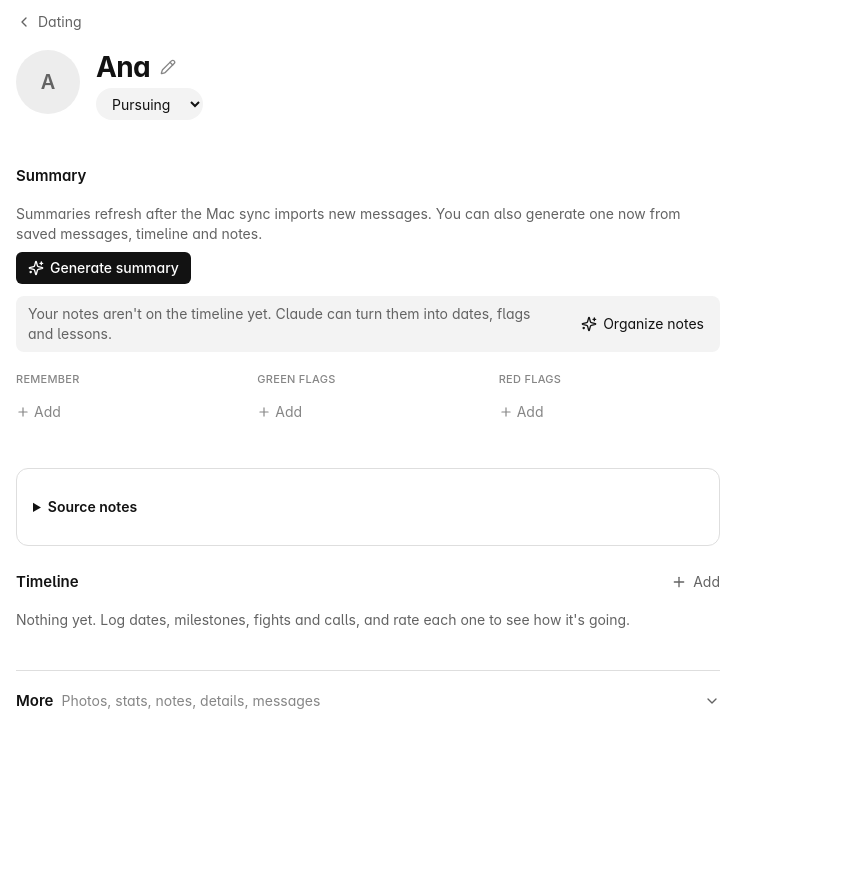
Test: dating request recovery › rolls the visible stage back after a save fails
Select "dating" in the dropdown named "Stage" at point(150, 104), box [96,88,203,120]
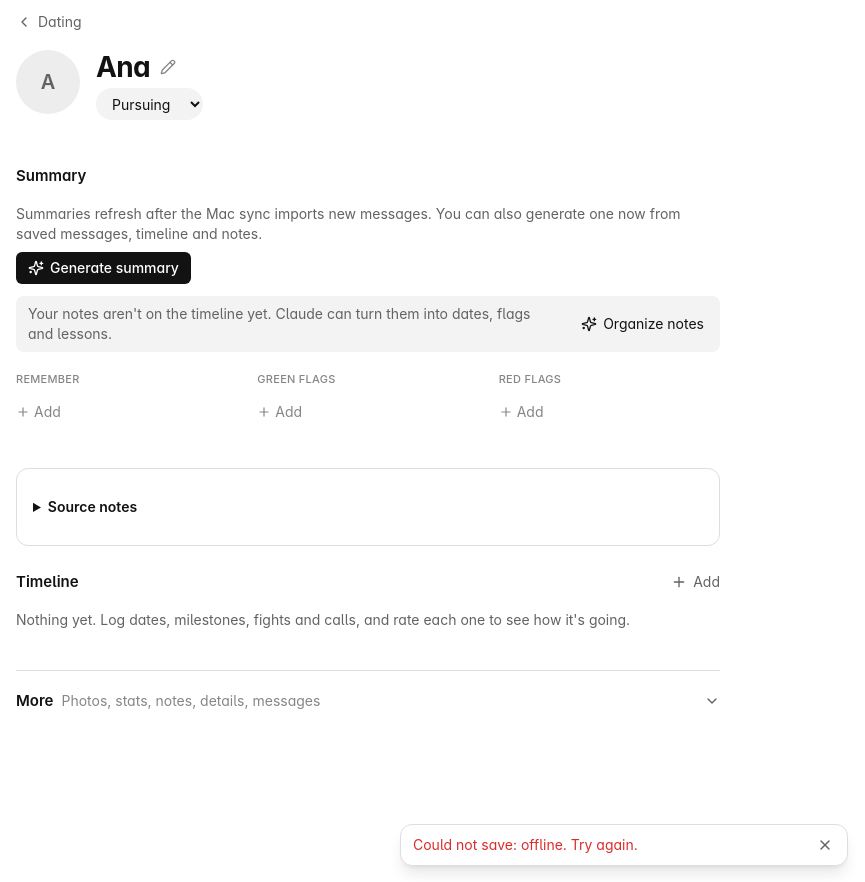
Check: the message "Could not save: offline. Try again." is shown, box [400,824,848,866]
